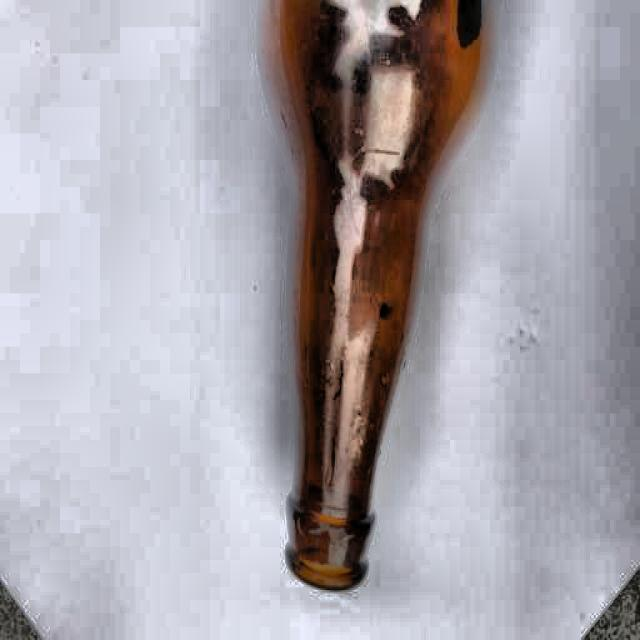glass: (251, 0, 500, 588)
